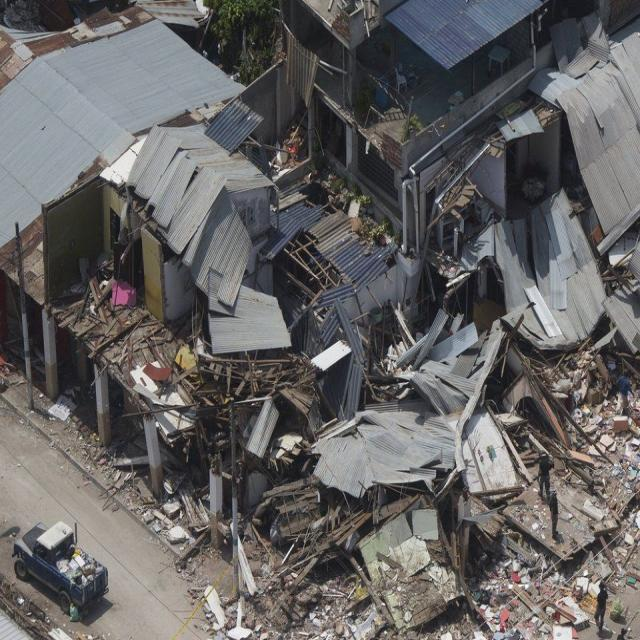collapsed_building: (64, 136, 402, 562)
